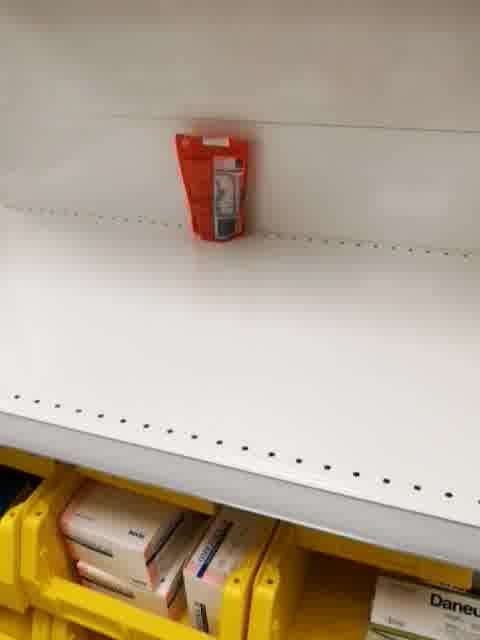whitechia: (174, 131, 253, 248)
